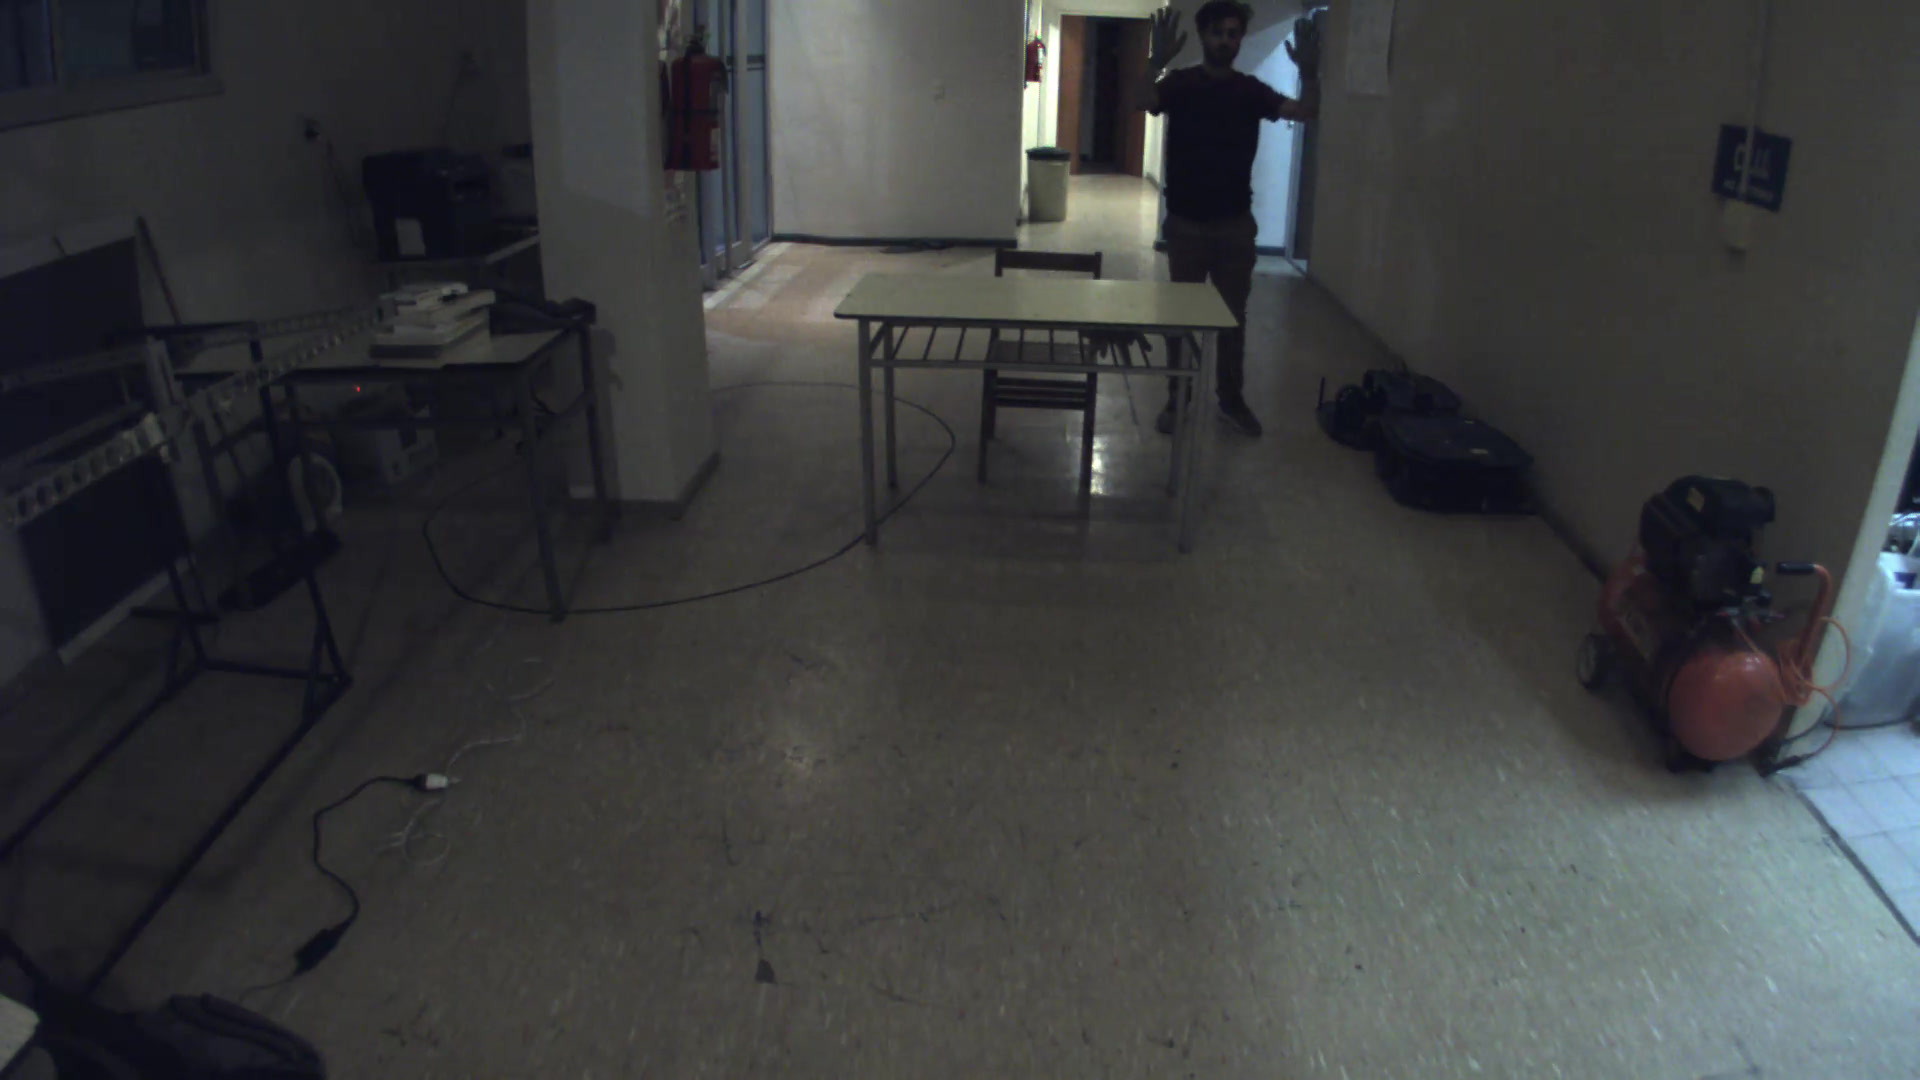hand: (1138, 3, 1201, 78), (1279, 8, 1341, 75)
